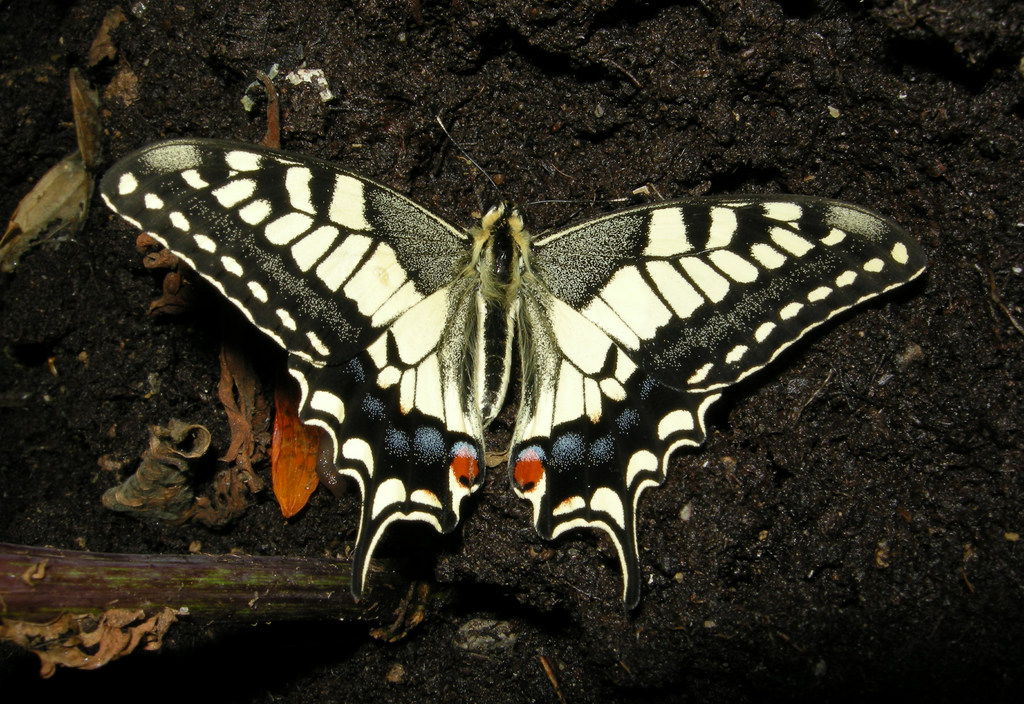Butterfly: (95, 140, 913, 598)
